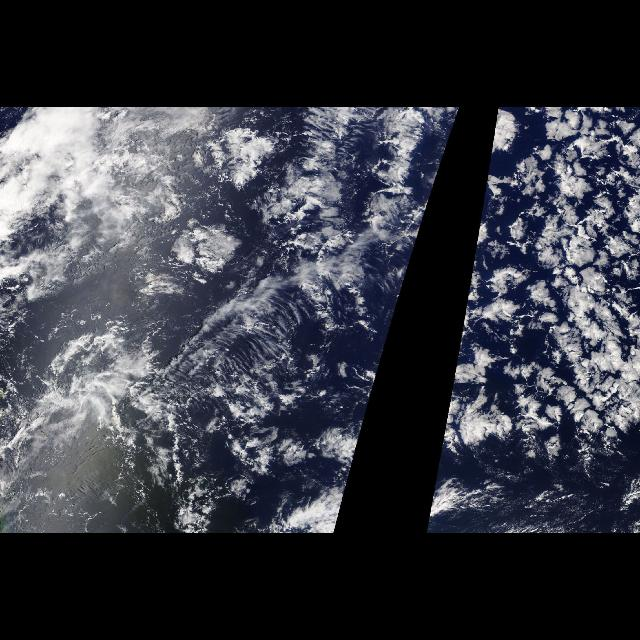Fish: (150, 112, 416, 412)
Flower: (424, 109, 640, 533), (420, 109, 460, 231)
Sugar: (464, 110, 640, 494)
